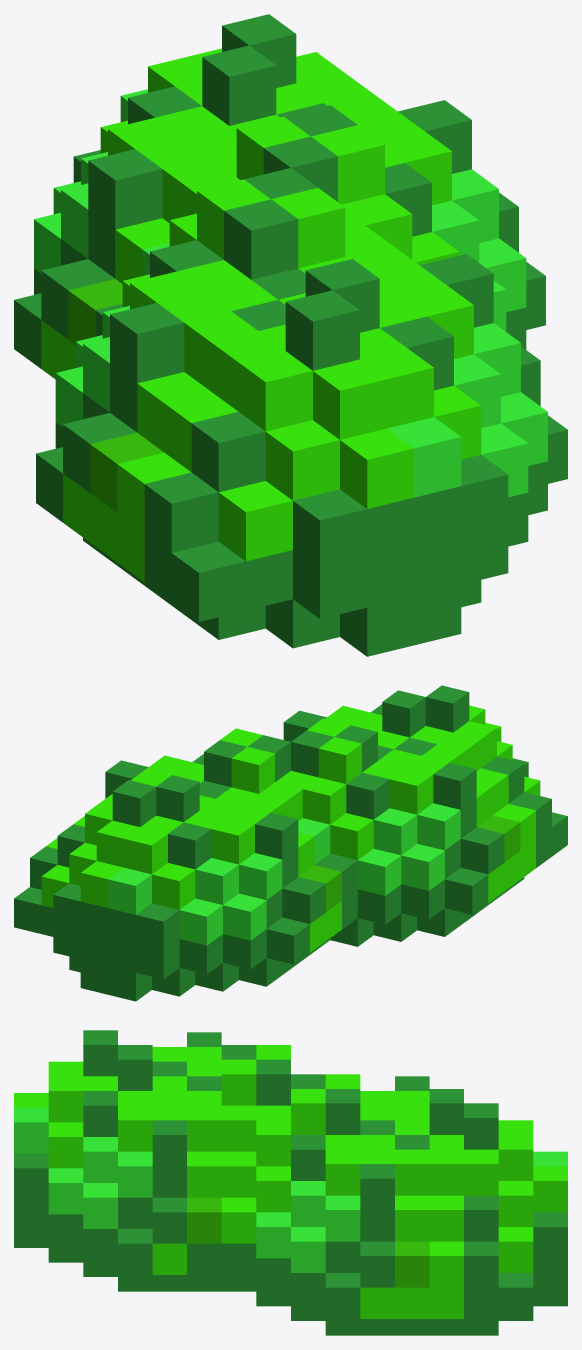
File: map_Third-6.obj
The picture shows the model from 3 angles, top to bottom: view 1: azimuth 30°, elevation 25°; view 2: azimuth 150°, elevation 25°; view 3: azimuth 270°, elevation 25°; orthographic projection. The views are drawn at different scales.
Size of the model in its own units: 1.2 by 0.6 by 1.6.
Materials: 1 (1 with a texture image).
